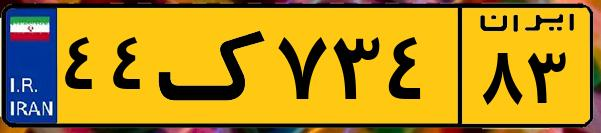3: (330, 28, 385, 110), (525, 38, 570, 115)
4: (385, 28, 445, 110), (57, 26, 110, 100), (110, 28, 158, 98)
7: (270, 28, 330, 110)
8: (475, 38, 525, 113)
ک: (158, 12, 270, 120)
